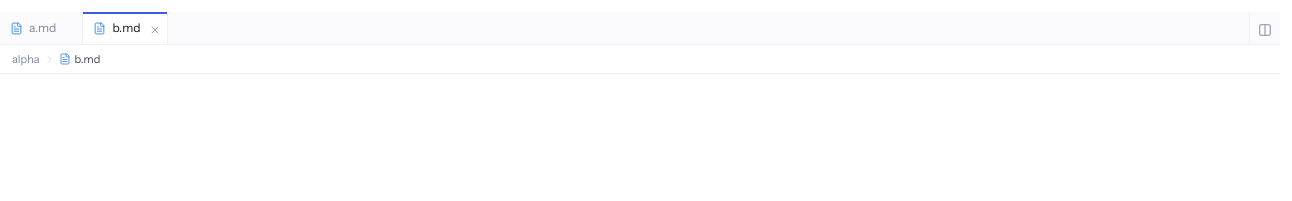
it: EditorGroups › renders two panes side by side after a split, with a divider between
Click the button with test id "split-editor". click: (1264, 28)
box: left=1249, top=12, right=1280, bottom=44
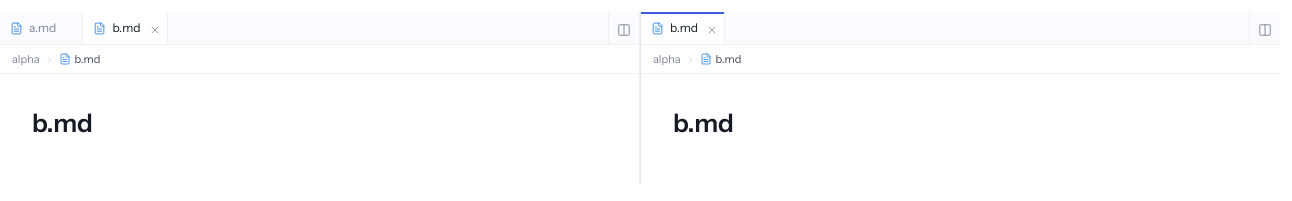
Expected: the number of elements with test id "editor-pane" is 2, left=0, top=12, right=640, bottom=184; left=641, top=12, right=1280, bottom=184
Expected: the number of elements with test id "pane-splitter" is 1, left=637, top=12, right=644, bottom=184
